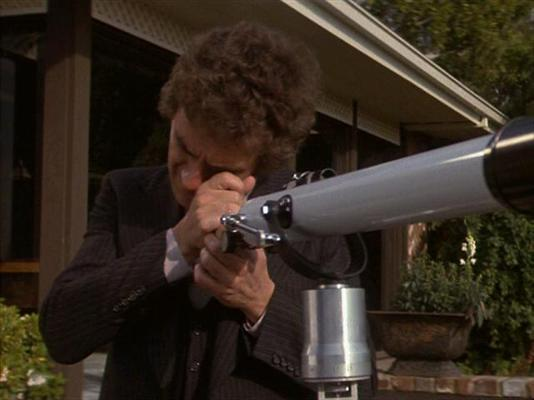person: (38, 23, 360, 398)
